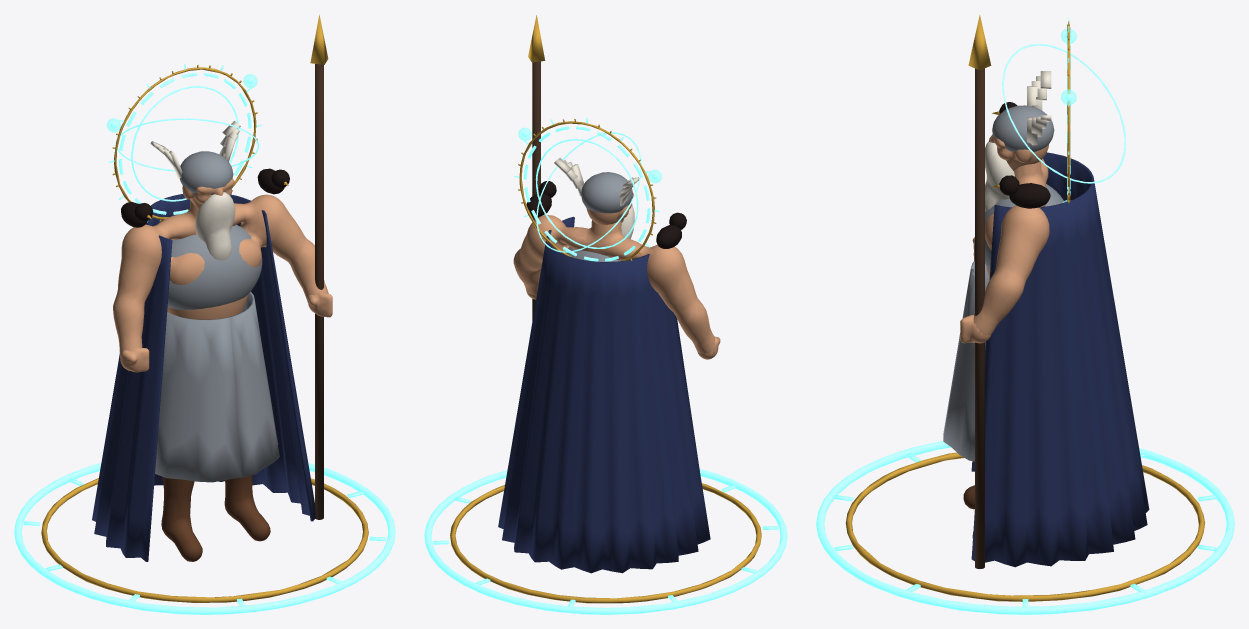
File: odin.glb
3 views of the same model, side by side, from view 1: azimuth 30°, elevation 25°; view 2: azimuth 150°, elevation 25°; view 3: azimuth 270°, elevation 25° (orthographic). The views are drawn at different scales.
Visible parts, largest first — view 1: steel, navy, skin, ether, gold, leather, wood_dark, white, shadow; view 2: navy, skin, ether, gold, steel, shadow, wood_dark, white; view 3: navy, ether, skin, steel, gold, wood_dark, white, shadow.
Part boxes in pixels (left/top/right/bottom): steel: left=155, top=151, right=279, bottom=482; navy: left=92, top=194, right=316, bottom=561; skin: left=113, top=179, right=332, bottom=372; ether: left=14, top=63, right=395, bottom=614; gold: left=41, top=14, right=368, bottom=602; leather: left=161, top=475, right=270, bottom=561; wood_dark: left=315, top=64, right=323, bottom=519; white: left=150, top=121, right=240, bottom=260; shadow: left=121, top=168, right=289, bottom=227; navy: left=498, top=216, right=710, bottom=573; skin: left=513, top=193, right=720, bottom=359; ether: left=424, top=118, right=787, bottom=614; gold: left=450, top=15, right=761, bottom=603; steel: left=565, top=172, right=632, bottom=261; shadow: left=526, top=181, right=686, bottom=248; wood_dark: left=532, top=61, right=540, bottom=320; white: left=554, top=158, right=639, bottom=238; navy: left=971, top=152, right=1149, bottom=567; ether: left=816, top=17, right=1234, bottom=614; skin: left=960, top=134, right=1049, bottom=343; steel: left=943, top=105, right=1064, bottom=461; gold: left=845, top=14, right=1205, bottom=601; wood_dark: left=975, top=68, right=984, bottom=568; white: left=985, top=71, right=1051, bottom=211; shadow: left=999, top=102, right=1050, bottom=208.
Bounding box in the file's own units: 2.39 × 3.55 × 2.39.
